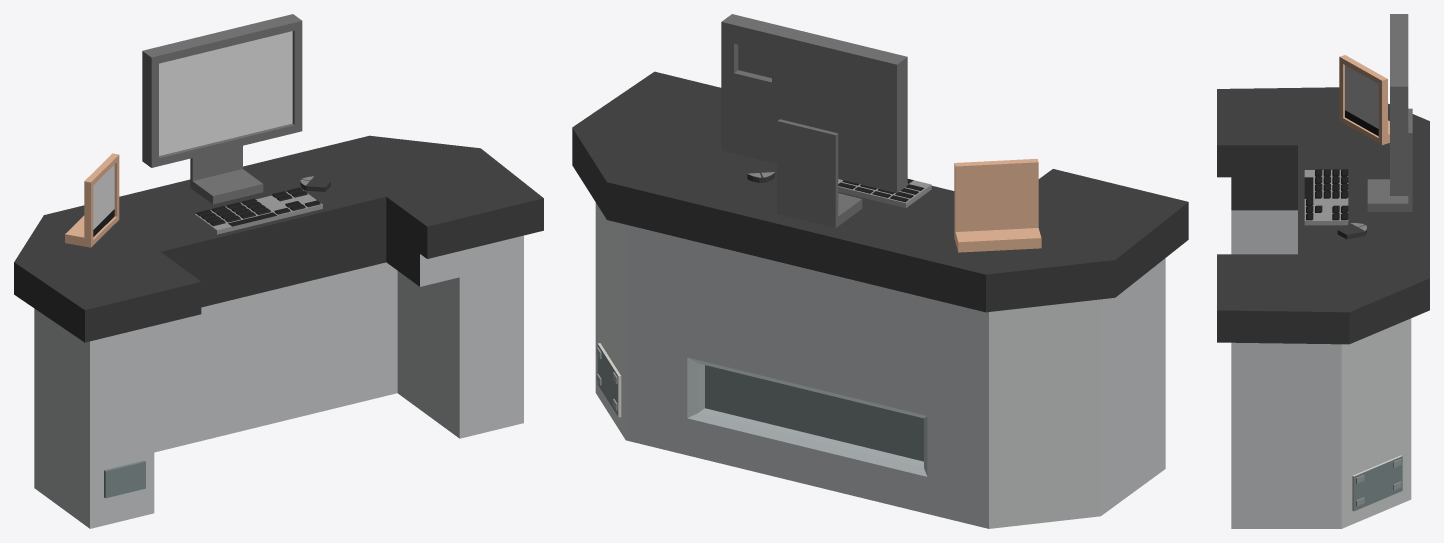
The model's file is Bedroom-Computer-Table.fbx.
3 renders of one model, left to right at view 1: azimuth 30°, elevation 25°; view 2: azimuth 150°, elevation 25°; view 3: azimuth 270°, elevation 25°, orthographic. The views are drawn at different scales.
Parts seen in each view (by area): view 1: Computer-Table-3, Screen, Keyboard, Frame; view 2: Computer-Table-3, Screen, Frame, Keyboard; view 3: Computer-Table-3, Screen, Frame, Keyboard, Mouse.
Part boxes in pixels (x1,y1,x2,y2): Computer-Table-3: [14, 135, 543, 528]; Screen: [142, 14, 302, 204]; Keyboard: [195, 187, 322, 234]; Frame: [65, 153, 119, 247]; Computer-Table-3: [572, 71, 1188, 528]; Screen: [721, 14, 907, 227]; Frame: [954, 158, 1041, 252]; Keyboard: [838, 179, 931, 208]; Computer-Table-3: [1217, 87, 1429, 528]; Screen: [1367, 14, 1412, 211]; Frame: [1339, 55, 1389, 145]; Keyboard: [1304, 169, 1348, 225]; Mouse: [1337, 223, 1366, 239].
Size of the model in its own units: 2.87 by 2.22 by 1.15.
